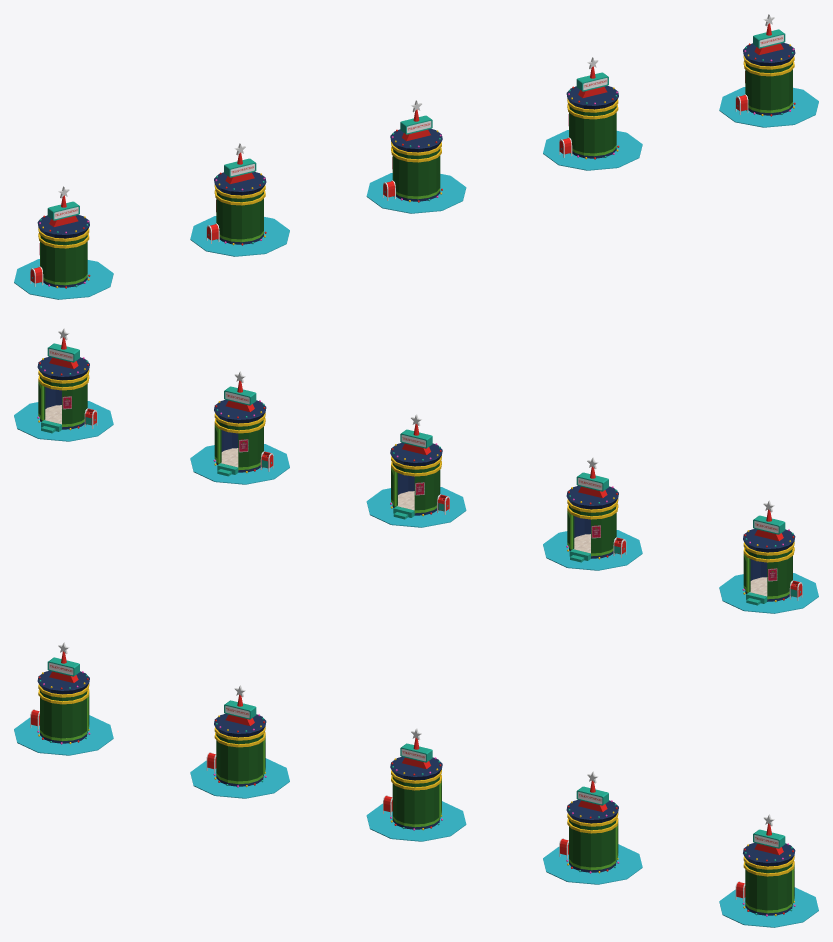
File: D10_Teletransport.fbx
The picture shows the model from 3 angles, top to bottom: view 1: azimuth 30°, elevation 25°; view 2: azimuth 150°, elevation 25°; view 3: azimuth 330°, elevation 25°; orthographic projection.
Visible parts, largest first — view 1: Cylinder.014; view 2: Cylinder.014; view 3: Cylinder.014.
Part boxes in pixels (x1,y1,x2,y2): Cylinder.014: (14, 14, 818, 299); Cylinder.014: (14, 328, 818, 613); Cylinder.014: (14, 642, 818, 927).
Size of the model in its own units: 5732 by 637 by 641.
Materials: 5 (4 with a texture image).
